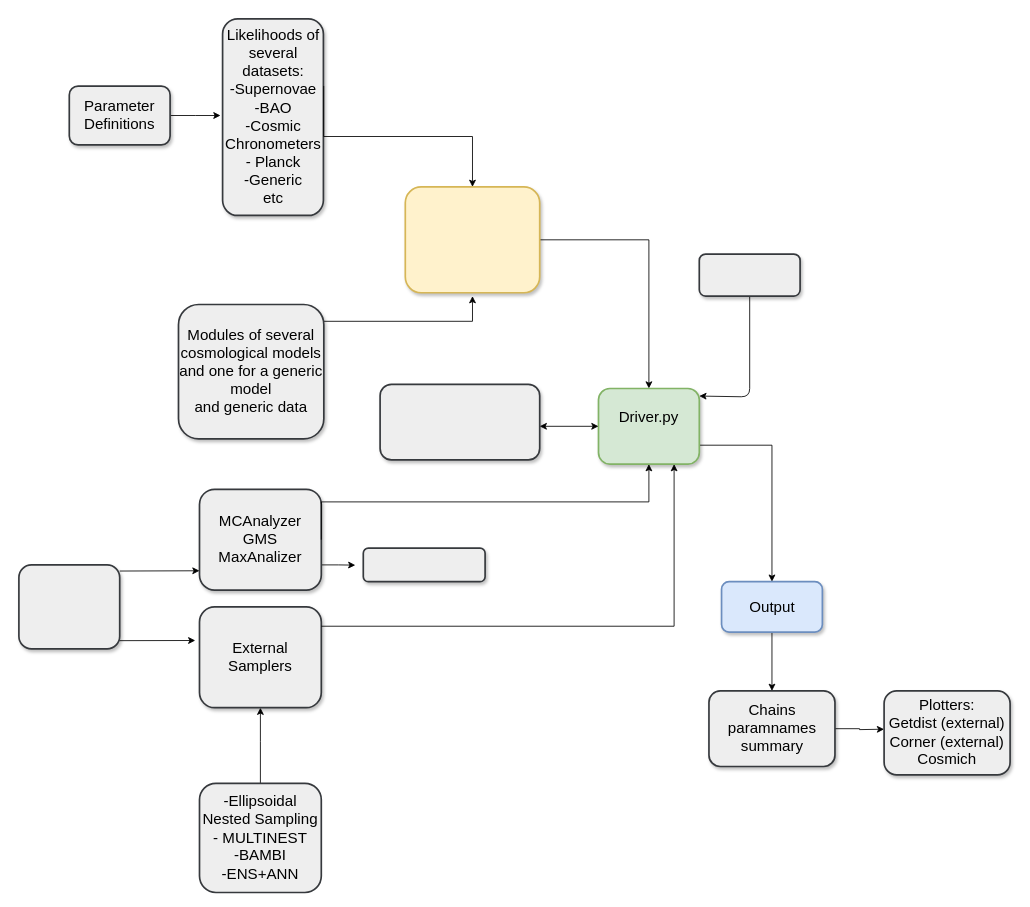
Image size: 1030x907. Some labels were removed from this diagram. The shapes that lost their labels are listed below. From the top down, each one's centre as x and y in pixels, then its label:
the point at 473,240: RunBase
the point at 750,275: .ini file
the point at 460,423: Parallelize: mpi4py (for clusters) flask for PCs
the point at 425,565: MCEvidence
the point at 69,607: Analyzers
